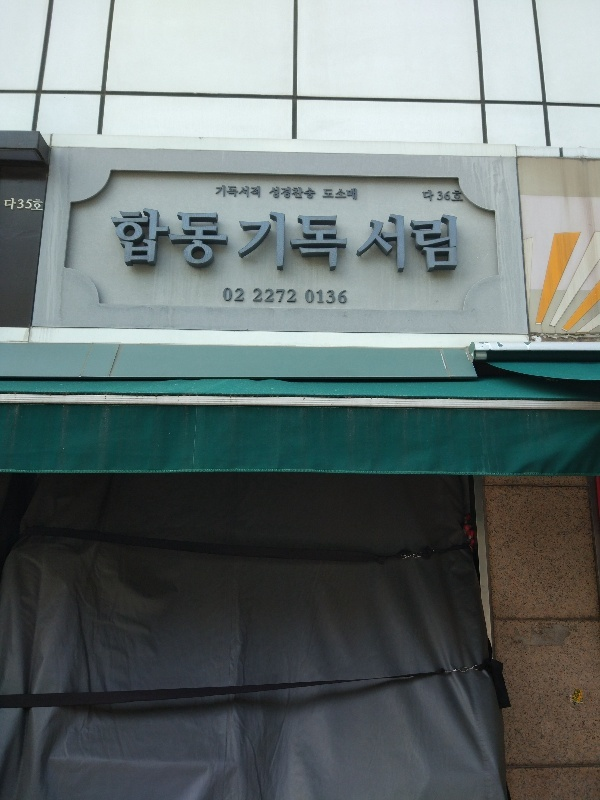text: (241, 209, 256, 272), (257, 209, 272, 272), (273, 209, 288, 272), (289, 209, 304, 272), (305, 209, 320, 272), (321, 209, 336, 272), (113, 204, 128, 267), (129, 204, 144, 267), (145, 204, 160, 267), (161, 204, 176, 267), (177, 204, 192, 267), (193, 204, 208, 267), (209, 204, 224, 267), (369, 213, 384, 273), (385, 213, 400, 273), (401, 213, 416, 273), (417, 213, 432, 273), (433, 213, 448, 273), (337, 209, 349, 272), (449, 213, 458, 273), (225, 204, 230, 267), (364, 213, 368, 273), (257, 287, 272, 303), (273, 287, 288, 303), (305, 289, 320, 304), (321, 289, 336, 304), (225, 185, 240, 199), (241, 185, 256, 199), (17, 197, 32, 211), (273, 186, 288, 199), (289, 186, 304, 199), (225, 288, 240, 301), (109, 204, 112, 267), (433, 190, 448, 202), (449, 190, 464, 202), (337, 188, 352, 200), (305, 186, 318, 199), (4, 197, 16, 211), (33, 197, 44, 211), (337, 289, 347, 304), (324, 188, 336, 200), (422, 190, 432, 202), (216, 185, 224, 199), (289, 287, 296, 303), (257, 185, 261, 199), (353, 188, 357, 200), (253, 287, 256, 303), (241, 288, 244, 301), (223, 288, 224, 301)
